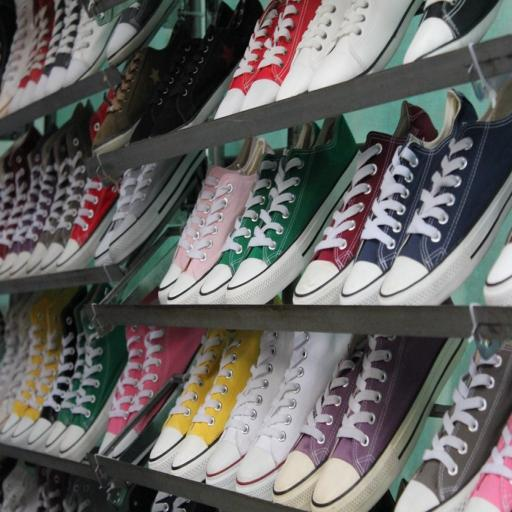shoe: (378, 80, 512, 305), (340, 90, 477, 305), (293, 102, 437, 304), (311, 336, 466, 512), (114, 138, 272, 304), (226, 116, 358, 304), (151, 0, 316, 136), (395, 342, 512, 512), (236, 332, 350, 500), (99, 294, 205, 457), (272, 338, 366, 511), (158, 139, 256, 304), (182, 152, 282, 304), (92, 0, 190, 154), (42, 284, 126, 456), (206, 332, 294, 490), (170, 331, 262, 481), (130, 5, 222, 143), (148, 328, 228, 473), (58, 88, 120, 270), (108, 151, 204, 263), (10, 288, 77, 447), (308, 0, 422, 91), (25, 104, 85, 275), (27, 287, 87, 451), (58, 323, 128, 462), (99, 292, 157, 452), (38, 102, 92, 273), (241, 0, 321, 111), (0, 290, 58, 443), (214, 0, 286, 119), (0, 125, 56, 278), (9, 127, 65, 277), (99, 298, 151, 452), (276, 0, 352, 101), (37, 308, 87, 456), (404, 0, 502, 64), (55, 178, 119, 271), (0, 125, 41, 263), (0, 293, 40, 428), (9, 0, 55, 113), (94, 167, 142, 266), (464, 416, 512, 512), (37, 0, 83, 97), (62, 8, 118, 86), (106, 0, 172, 66), (0, 0, 37, 117), (30, 0, 70, 102), (0, 297, 24, 403), (483, 231, 512, 306), (2, 461, 38, 512), (0, 141, 17, 235), (89, 86, 115, 143), (0, 0, 17, 83), (151, 492, 217, 512), (75, 477, 107, 512), (47, 469, 71, 512), (36, 467, 50, 512)
